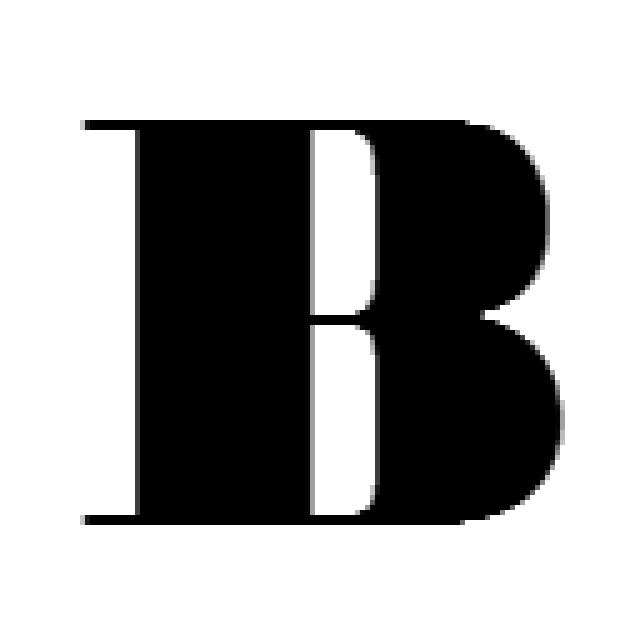B: (80, 115, 565, 530)
